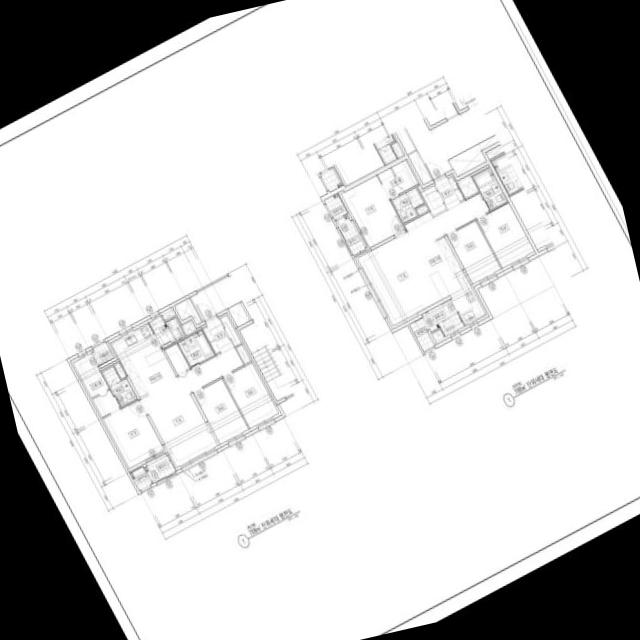background: (0, 0, 640, 640)
space_balconi: (422, 298, 464, 335), (335, 214, 365, 255), (148, 315, 184, 347), (144, 453, 175, 482)
space_bedroom: (340, 174, 404, 246), (102, 399, 164, 467), (476, 202, 533, 267), (193, 378, 248, 443), (223, 362, 278, 427), (446, 220, 500, 283)
space_dressroom: (73, 353, 119, 416), (377, 159, 418, 198)
space_front: (201, 315, 233, 353), (433, 174, 464, 209)
space_kitchen: (423, 234, 485, 324), (110, 322, 176, 396)
space_living_room: (357, 192, 488, 324), (140, 346, 243, 466)
space_other: (407, 149, 432, 184), (409, 317, 434, 350), (164, 342, 189, 374), (420, 185, 445, 215), (174, 297, 201, 324), (220, 314, 240, 345), (227, 301, 249, 326), (91, 341, 113, 365), (457, 175, 478, 197), (235, 344, 250, 363), (113, 362, 126, 378), (181, 321, 195, 335), (161, 309, 175, 320), (432, 328, 444, 340), (415, 204, 428, 214)
space_outdoor_room: (324, 192, 347, 219), (129, 466, 151, 490)
space_toilet: (471, 167, 507, 210), (101, 365, 136, 406), (177, 329, 214, 367), (390, 186, 424, 223)
